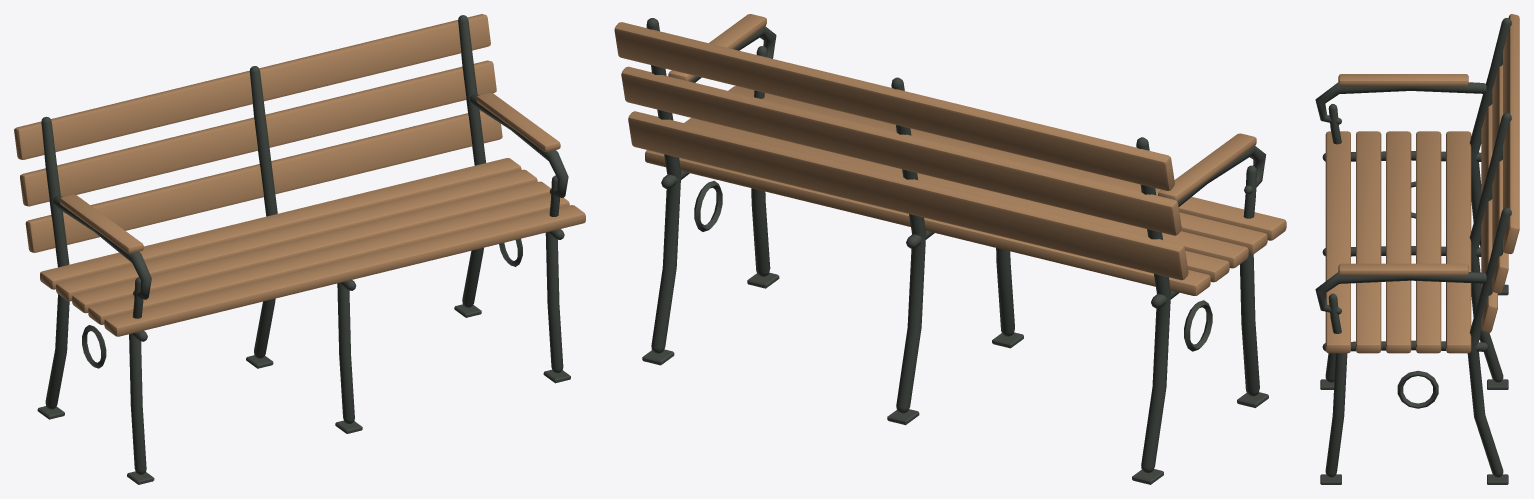
Rendered from bench.glb.
3 renders of one model, left to right at view 1: azimuth 30°, elevation 25°; view 2: azimuth 150°, elevation 25°; view 3: azimuth 270°, elevation 25°, orthographic. The views are drawn at different scales.
Visible parts, largest first — view 1: bench; view 2: bench; view 3: bench.
Boxes of the visible parts, x1=… form: bench: x1=14, y1=14, x2=585, y2=484; bench: x1=614, y1=14, x2=1286, y2=484; bench: x1=1315, y1=14, x2=1519, y2=484.
Bounding box in the file's own units: 1.4 × 0.8337 × 0.5639.
